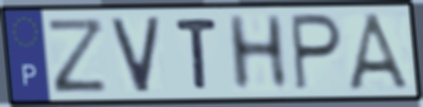A: (344, 10, 416, 92)
H: (223, 12, 292, 94)
P: (289, 11, 346, 94)
T: (172, 16, 221, 92)
V: (107, 14, 164, 96)
Z: (44, 16, 110, 96)
